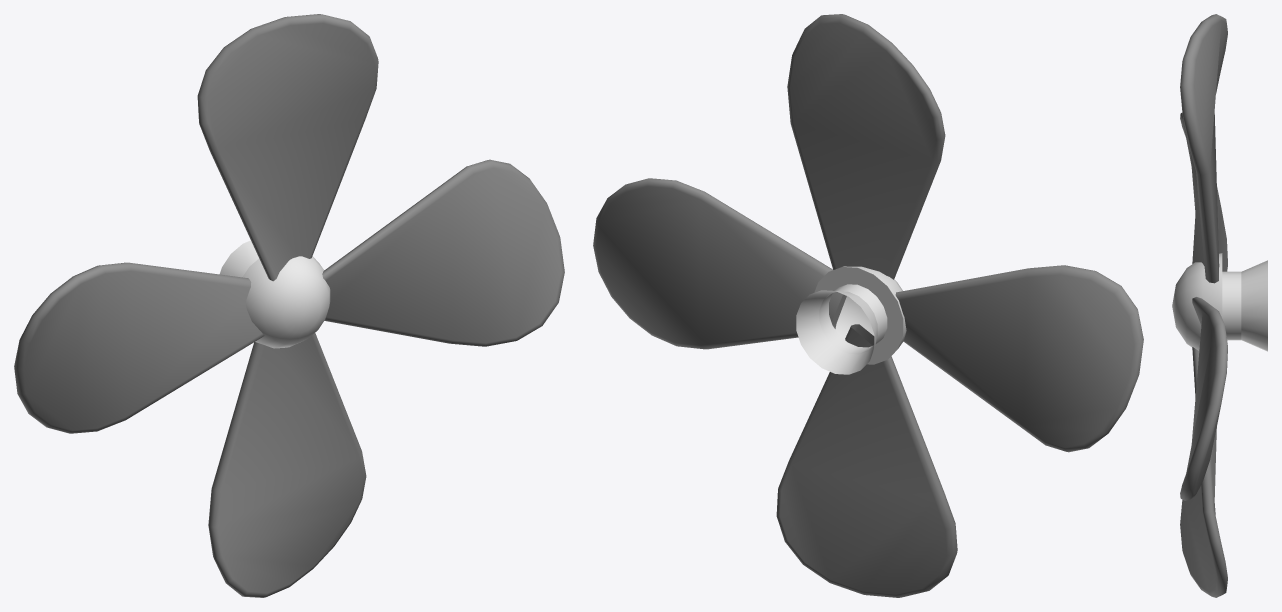
The model's file is propeller_metal_2.fbx.
The picture shows the model from 3 angles, left to right: view 1: azimuth 30°, elevation 25°; view 2: azimuth 150°, elevation 25°; view 3: azimuth 270°, elevation 25°; orthographic projection.
Visible parts, largest first — view 1: propeller_metal_2; view 2: propeller_metal_2; view 3: propeller_metal_2.
Part boxes in pixels (bbox=[...]): propeller_metal_2: bbox=[14, 14, 564, 597]; propeller_metal_2: bbox=[593, 14, 1143, 597]; propeller_metal_2: bbox=[1172, 14, 1267, 597].
Bounding box in the file's own units: 188 × 188 × 28.49.
